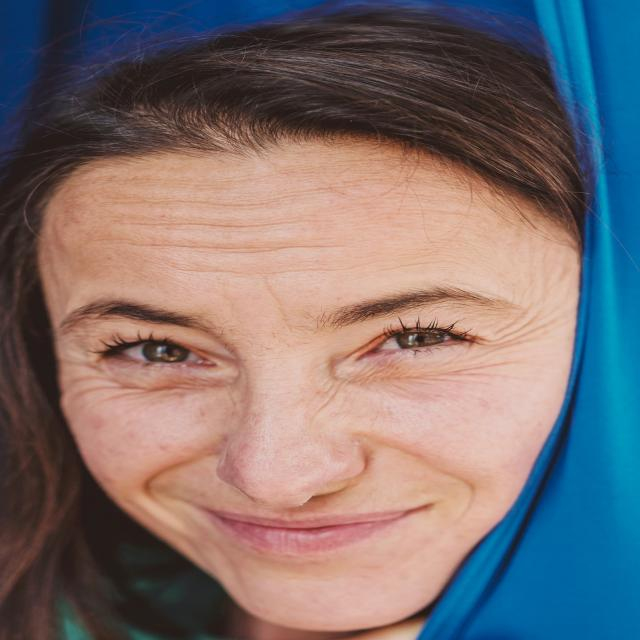Wrinkles: (266, 282, 295, 337), (494, 312, 541, 341), (497, 305, 531, 334), (498, 327, 544, 345), (418, 263, 475, 272), (142, 245, 247, 249), (251, 196, 294, 205), (189, 224, 266, 228), (312, 185, 359, 191), (278, 220, 330, 225), (385, 265, 418, 270), (265, 246, 296, 251), (189, 202, 225, 205), (288, 269, 336, 271), (261, 271, 285, 274), (227, 252, 259, 253), (225, 272, 240, 273), (185, 270, 199, 271), (176, 269, 185, 270), (219, 271, 225, 272), (312, 246, 347, 246), (199, 271, 219, 271)
